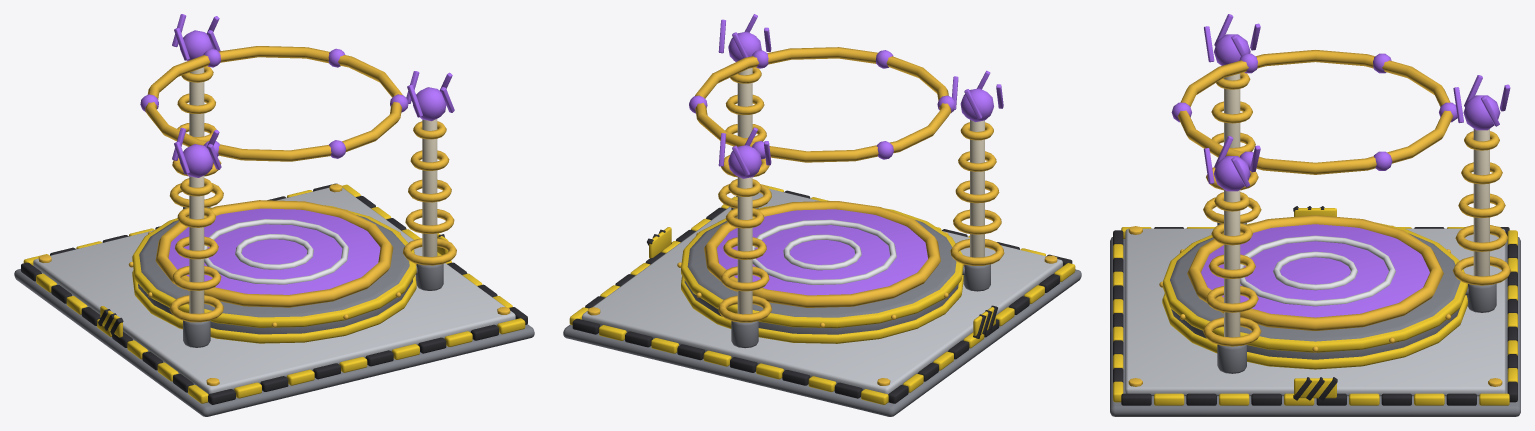
Rendered from Telepad.glb.
3 renders of one model, left to right at view 1: azimuth 30°, elevation 25°; view 2: azimuth 150°, elevation 25°; view 3: azimuth 270°, elevation 25°, orthographic. The views are drawn at different scales.
Visible parts, largest first — view 1: Telepad, anim_spin_45_halo; view 2: Telepad, anim_spin_45_halo; view 3: Telepad, anim_spin_45_halo.
Part boxes in pixels (bbox=[...]): Telepad: bbox=[14, 14, 534, 416]; anim_spin_45_halo: bbox=[140, 46, 408, 161]; Telepad: bbox=[563, 14, 1081, 416]; anim_spin_45_halo: bbox=[689, 47, 954, 162]; Telepad: bbox=[1110, 14, 1520, 416]; anim_spin_45_halo: bbox=[1171, 50, 1457, 174].
Size of the model in its own units: 4 by 2.64 by 4.
